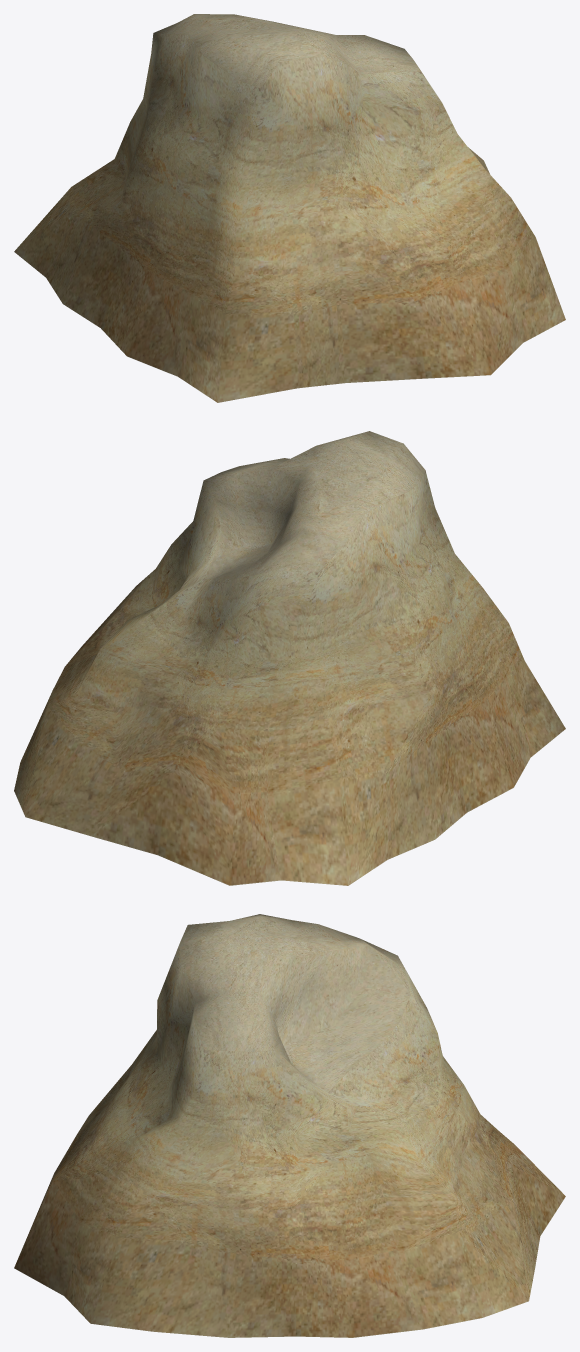
The model's file is rock_beach_spike_a3_l0.fbx.
The picture shows the model from 3 angles, top to bottom: view 1: azimuth 30°, elevation 25°; view 2: azimuth 150°, elevation 25°; view 3: azimuth 270°, elevation 25°; orthographic projection. The views are drawn at different scales.
Visible parts, largest first — view 1: mesh_node; view 2: mesh_node; view 3: mesh_node.
Part boxes in pixels (x1=…): mesh_node: x1=14, y1=14, x2=565, y2=402; mesh_node: x1=14, y1=431, x2=565, y2=885; mesh_node: x1=14, y1=914, x2=565, y2=1337.
Size of the model in its own units: 5.74 by 3.99 by 6.88.
